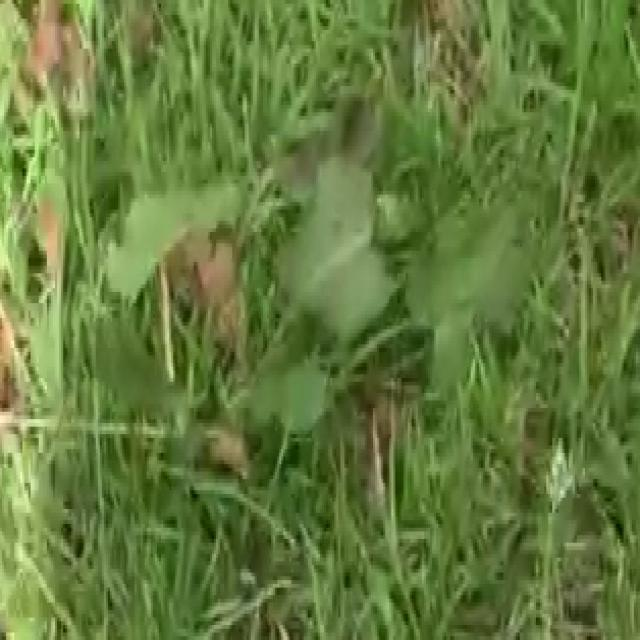organic waste: (98, 146, 544, 528)
